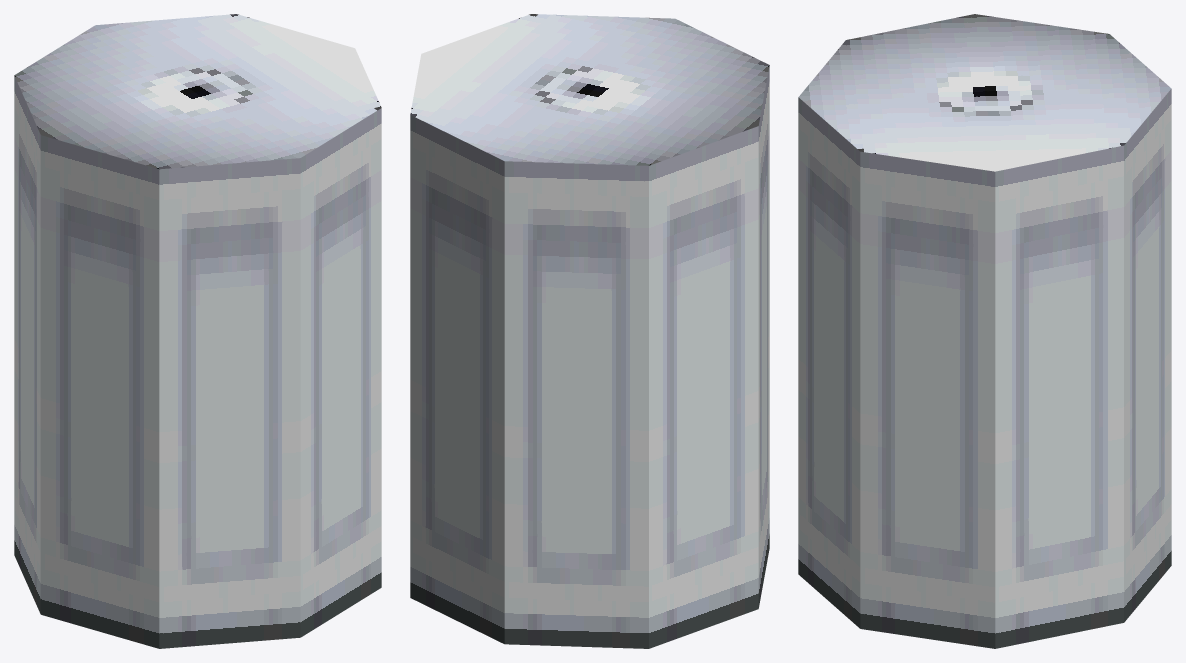
Rendered from primary_092.glb.
The picture shows the model from 3 angles, left to right: view 1: azimuth 30°, elevation 25°; view 2: azimuth 150°, elevation 25°; view 3: azimuth 270°, elevation 25°; orthographic projection.
Visible parts, largest first — view 1: Object; view 2: Object; view 3: Object.
Boxes of the visible parts, x1,y1,x2,y2 form: Object: (14, 14, 381, 648); Object: (410, 14, 769, 648); Object: (798, 14, 1171, 648).
Size of the model in its own units: 0.9487 by 1.34 by 0.9487.
2 materials, 2 textured.
